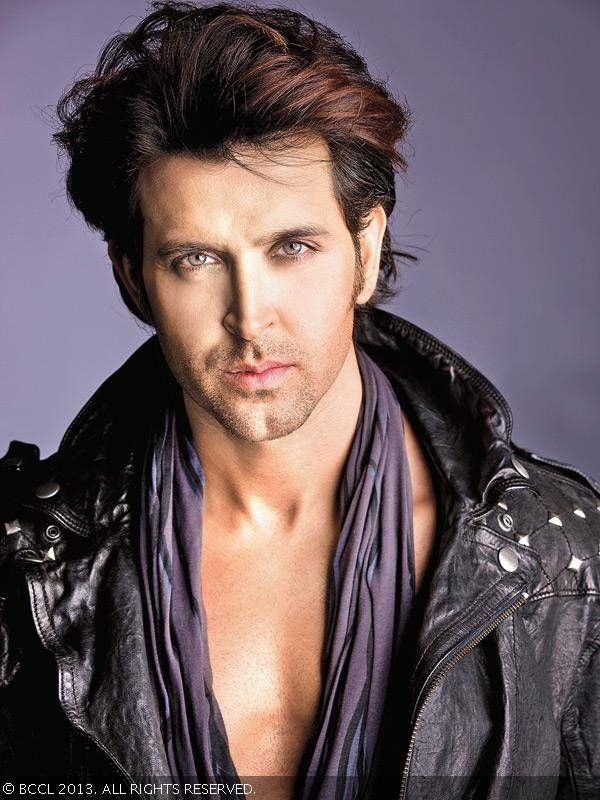bad: (142, 192, 365, 415)
